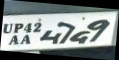character: (8, 34, 18, 45), (23, 22, 32, 33), (20, 34, 29, 45), (3, 23, 12, 33), (13, 22, 22, 32), (32, 21, 40, 32)
